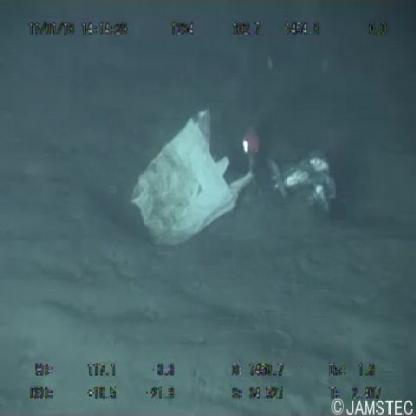Rác: (125, 106, 261, 251)
